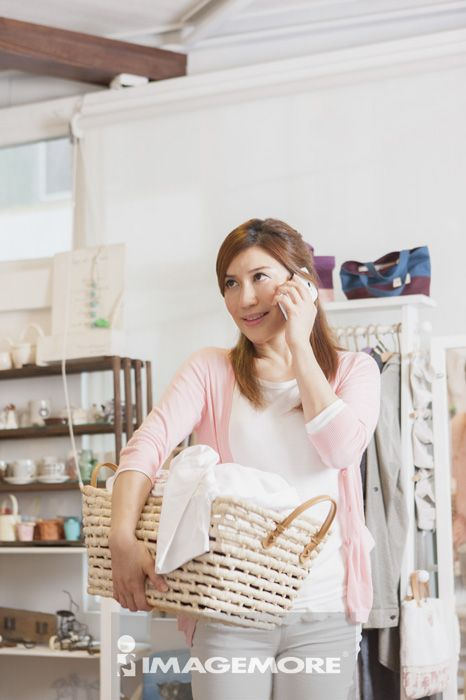phone: (278, 268, 317, 323)
talk: (223, 265, 318, 359)
